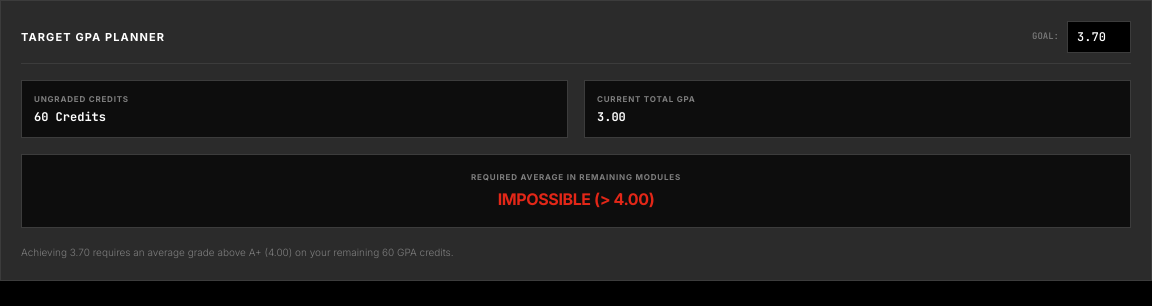
Test: TargetPlanner › recomputes the required average when the goal changes
Replace the text in the number field with "2.00": (1099, 37) x1=1067 y1=21 x2=1131 y2=53
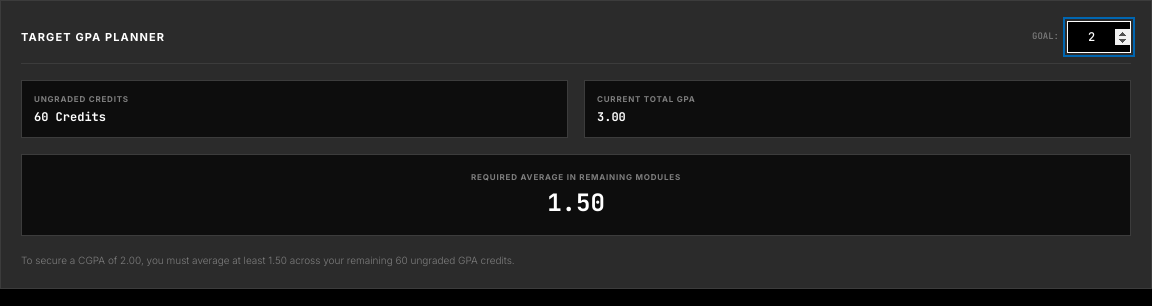
Expected: the text "UNGRADED CREDITS" is shown, x1=34 y1=94 x2=129 y2=104
Now the number field holds "2", box x1=1067 y1=21 x2=1131 y2=53
